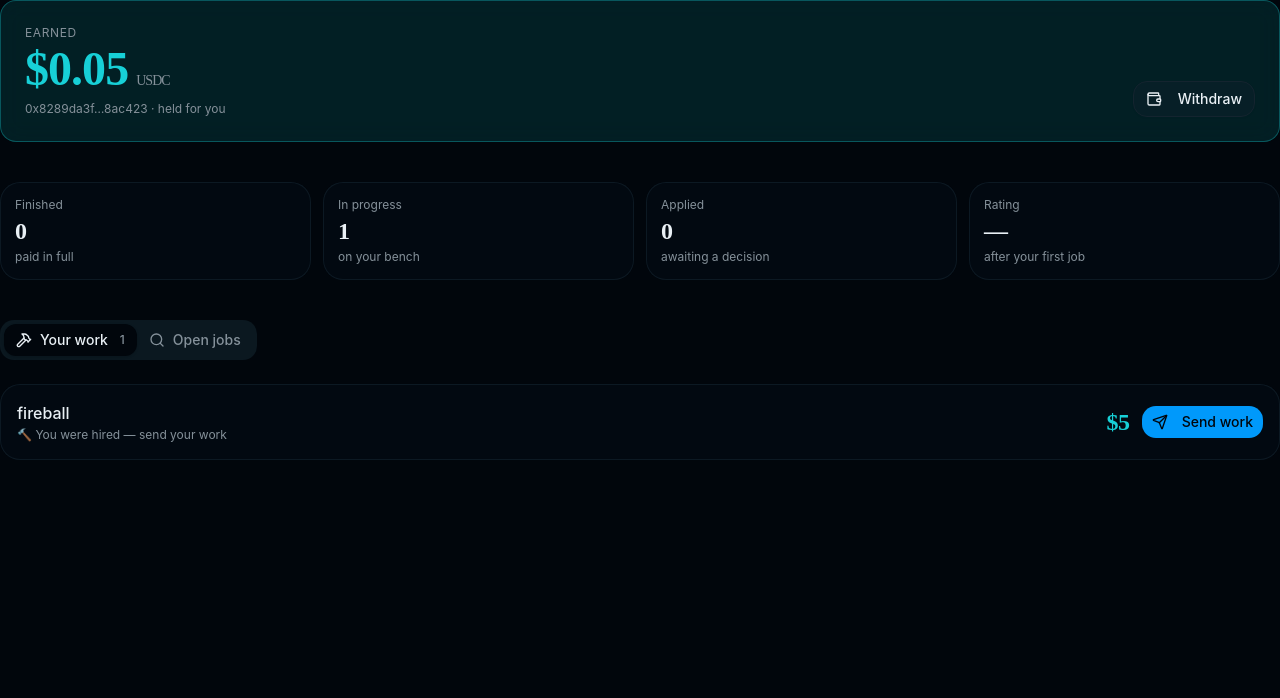
Test: what the delivery box tells them › attributes the criteria to the client when no agent reviews
Click the button "Send work".
click(1202, 422)  # box left=1142, top=406, right=1263, bottom=438
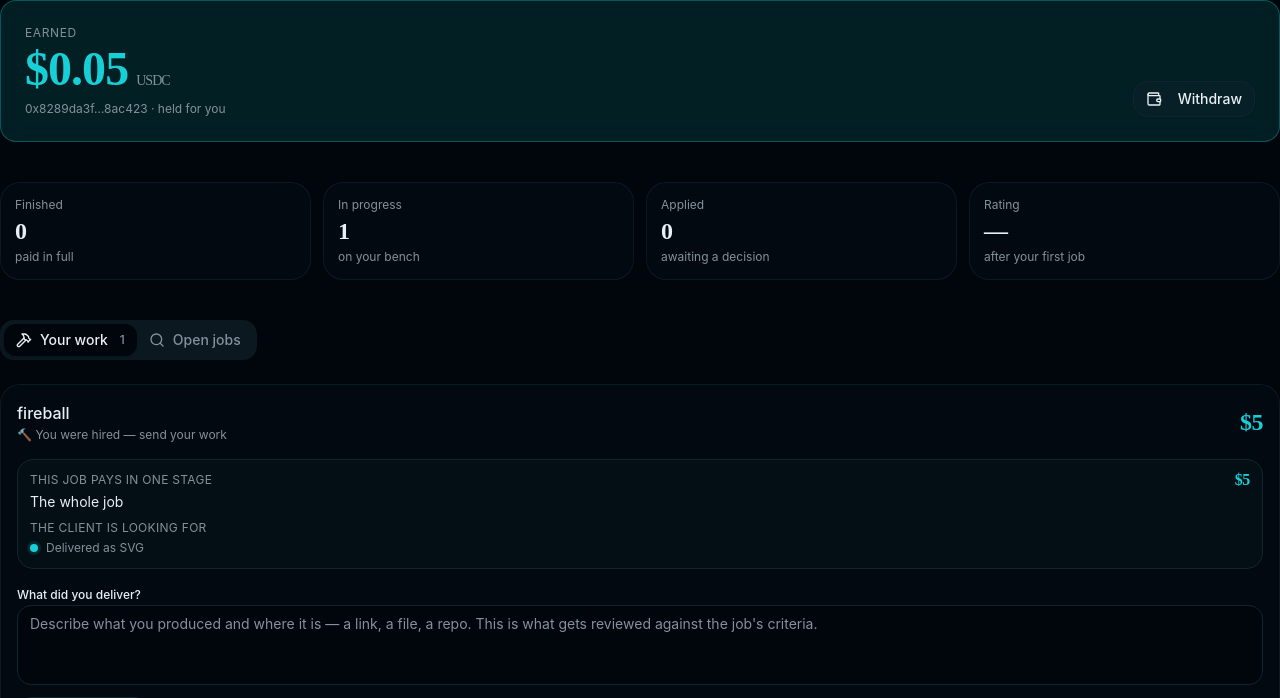
Expected: the text "The client is looking for" is shown, left=30, top=520, right=207, bottom=535
